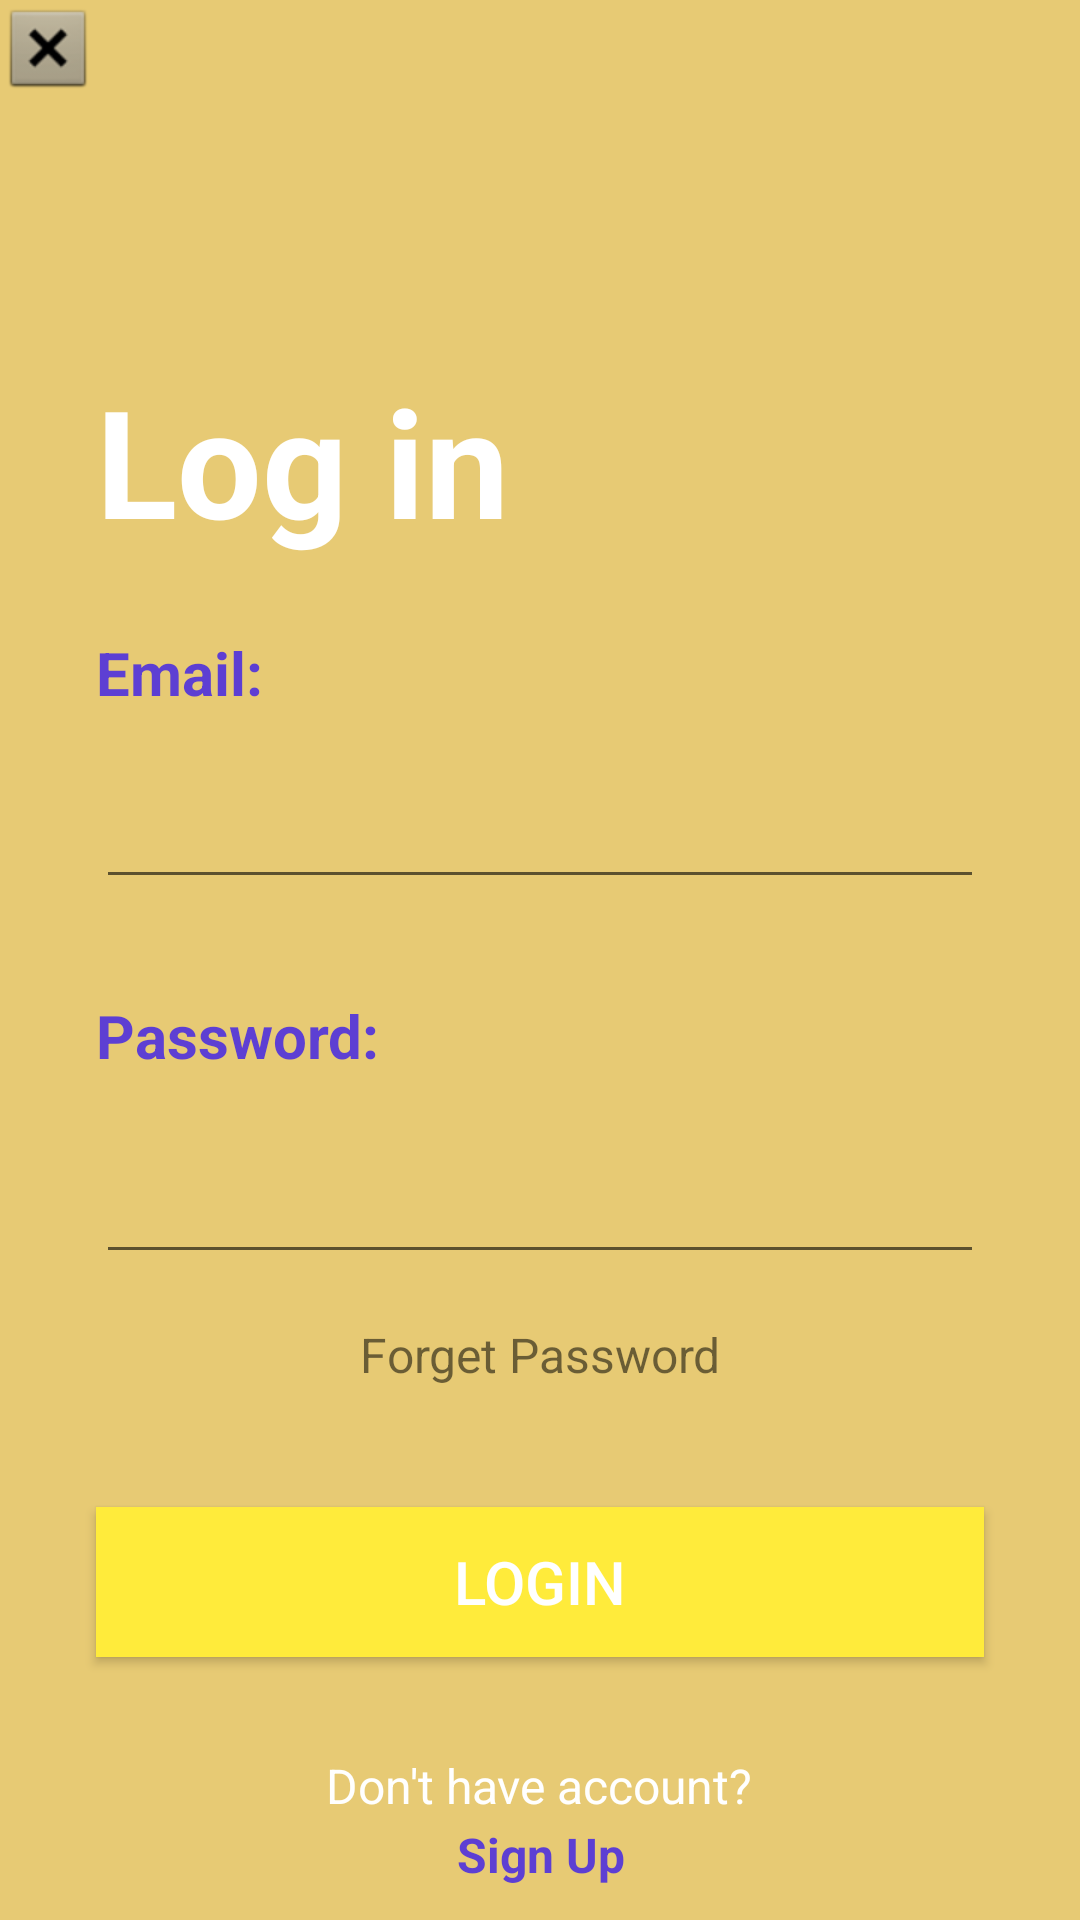

Icon bounding boxes for this 1080 x 1920 phone screenshot, format (x1, y1, x2, y2):
Cancel: (9, 10, 87, 87)
